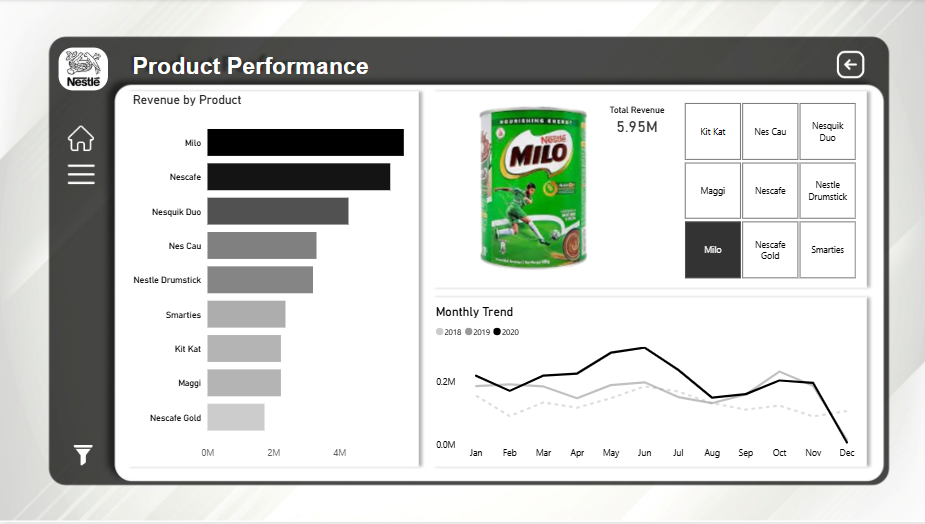

The page's visual inventory and layout, read from the dashboard file:
{"tool":"powerbi","page":{"name":"Product","canvas":[1280,720],"ordinal":1},"visuals":[{"type":"group","id":"g1","title":"Group 1","box":[586.3,118.4,616.6,287.7],"z":0},{"type":"shape","box":[586.3,118.4,616.6,287.7],"z":0,"group":"g1"},{"type":"simpleImageEBC4593F96F1425FB3D84C5BF02B5075","fields":{"imageURL":["Image URL.Image URL"]},"box":[609.7,133.5,327.6,257.4],"z":1000},{"type":"shape","box":[166.5,118.4,419.8,534],"z":2000},{"type":"shape","box":[586.3,401.9,616.6,250.5],"z":3000},{"type":"clusteredBarChart","title":"Revenue by Product","fields":{"Category":["Product.Product Name"],"Y":["Sum(Sales.Total Revenue)"]},"box":[178.9,128,392.3,514.8],"z":4000},{"type":"lineChart","title":"Monthly Trend","fields":{"Y":["Sum(Sales.Total Revenue)"],"Category":["Date.Month Name Short"],"Series":["Date.Year"]},"box":[596,419.8,594.6,223],"z":5000},{"type":"slicer","fields":{"Values":["Product.Product Name"]},"box":[918,136.3,284.9,254.6],"z":6000,"group":"g1"},{"type":"card","title":"Total Revenue","fields":{"Values":["CalendarTable.Total Sales"]},"box":[831.3,145.9,93.6,44],"z":6000},{"type":"image","box":[86.7,169.3,52.3,45.4],"z":7000},{"type":"image","box":[86.7,223.3,52.3,46.8],"z":8000},{"type":"image","box":[96.7,602.8,38.6,50.1],"z":9000},{"type":"image","box":[1131.2,55.1,80.4,72.9],"z":12000}]}

Visuals, with their boxes on the page's 1280x720 design canvas (x1, y1, x2, y2). These are canvas units, not pixel positions in the 925x524 screenshot, which may show the page scaled, cropped or inside an application window:
"Group 1" group: {"left": 586, "top": 118, "right": 1203, "bottom": 406}
shape: {"left": 586, "top": 118, "right": 1203, "bottom": 406}
simpleImageEBC4593F96F1425FB3D84C5BF02B5075 - Image URL.Image URL: {"left": 610, "top": 134, "right": 937, "bottom": 391}
shape: {"left": 166, "top": 118, "right": 586, "bottom": 652}
shape: {"left": 586, "top": 402, "right": 1203, "bottom": 652}
"Revenue by Product" clusteredBarChart: {"left": 179, "top": 128, "right": 571, "bottom": 643}
"Monthly Trend" lineChart: {"left": 596, "top": 420, "right": 1191, "bottom": 643}
slicer - Product.Product Name: {"left": 918, "top": 136, "right": 1203, "bottom": 391}
"Total Revenue" card: {"left": 831, "top": 146, "right": 925, "bottom": 190}
image: {"left": 87, "top": 169, "right": 139, "bottom": 215}
image: {"left": 87, "top": 223, "right": 139, "bottom": 270}
image: {"left": 97, "top": 603, "right": 135, "bottom": 653}
image: {"left": 1131, "top": 55, "right": 1212, "bottom": 128}
